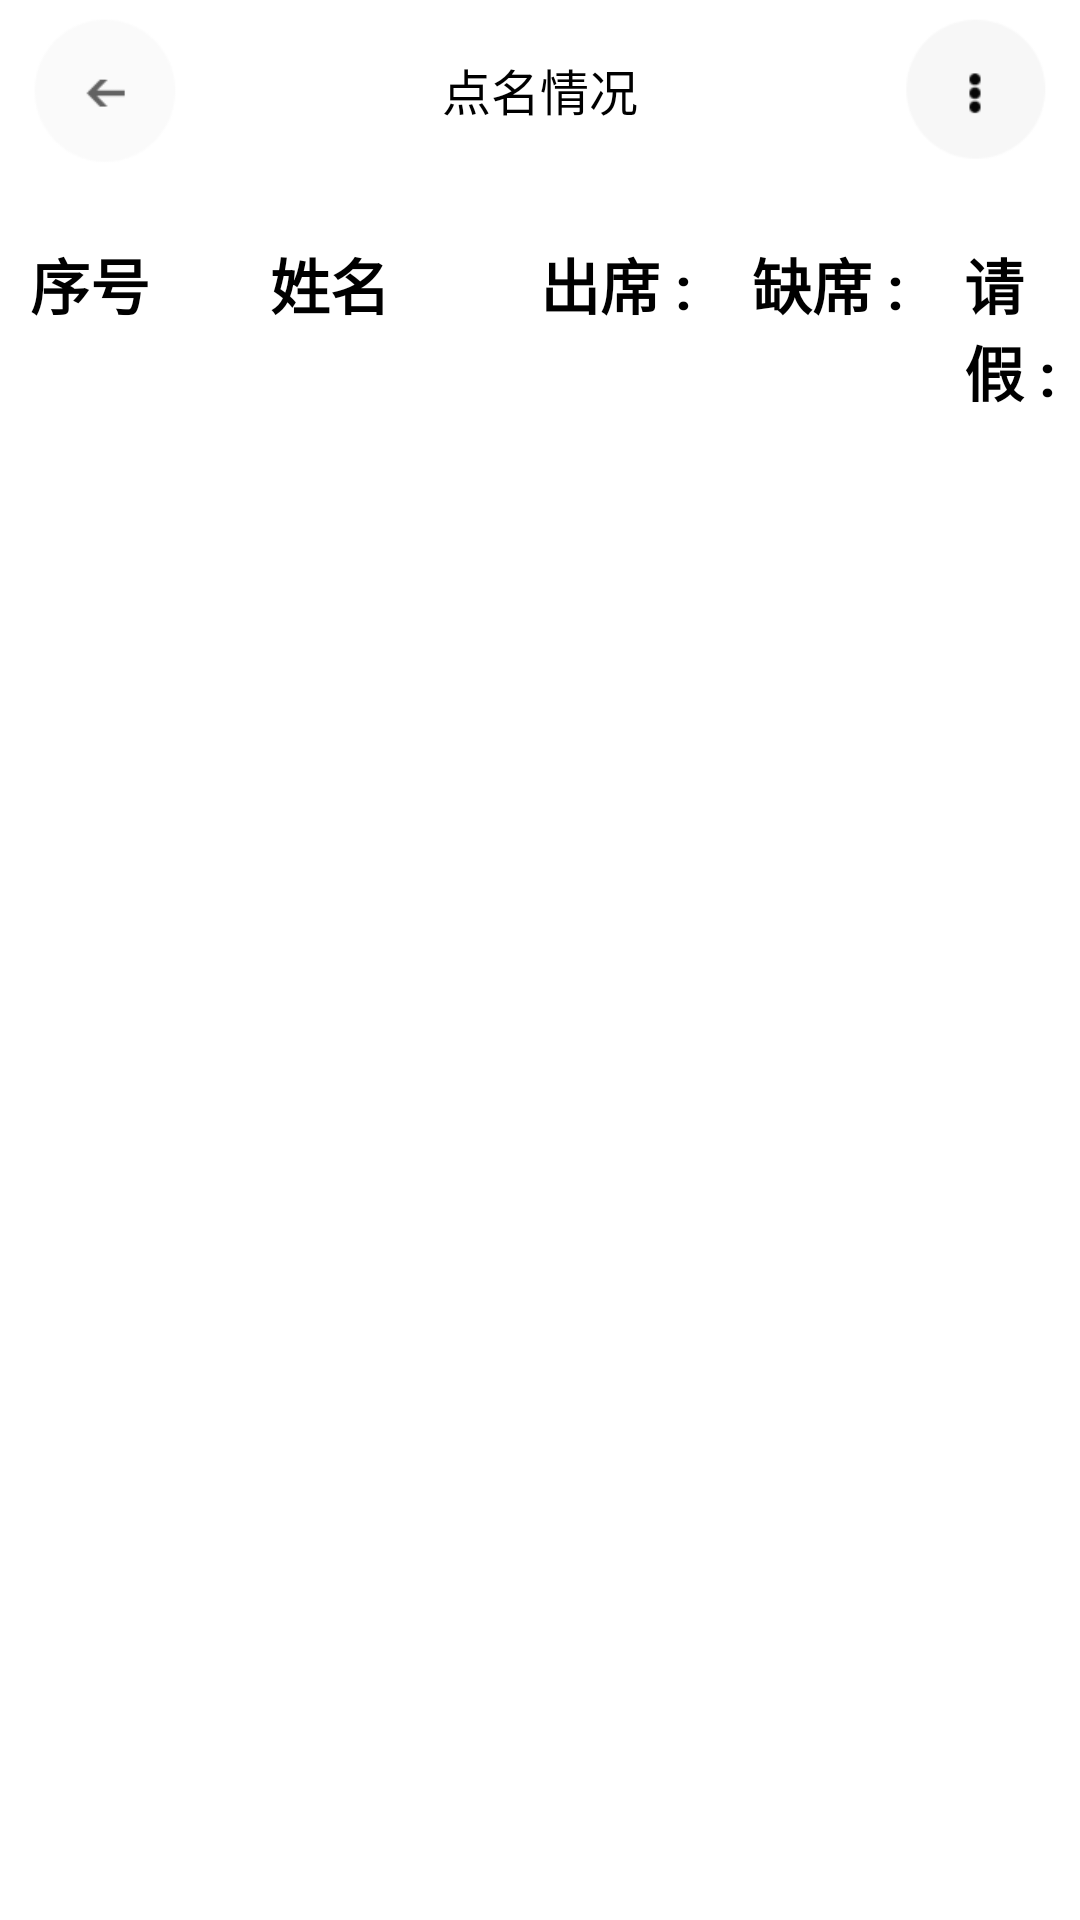

Where to tap for icons on this 1080 x 1920 app screen, as point (x, y):
back: point (105, 93)
